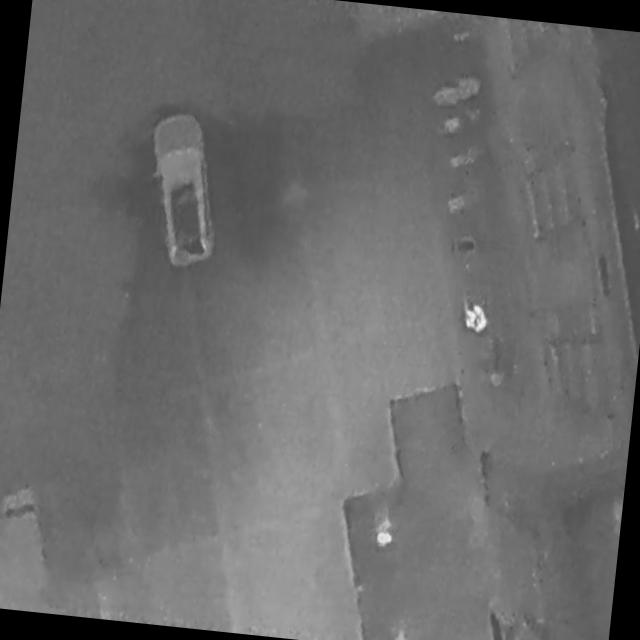person: (461, 301, 490, 335), (375, 519, 395, 550), (390, 630, 408, 640)
